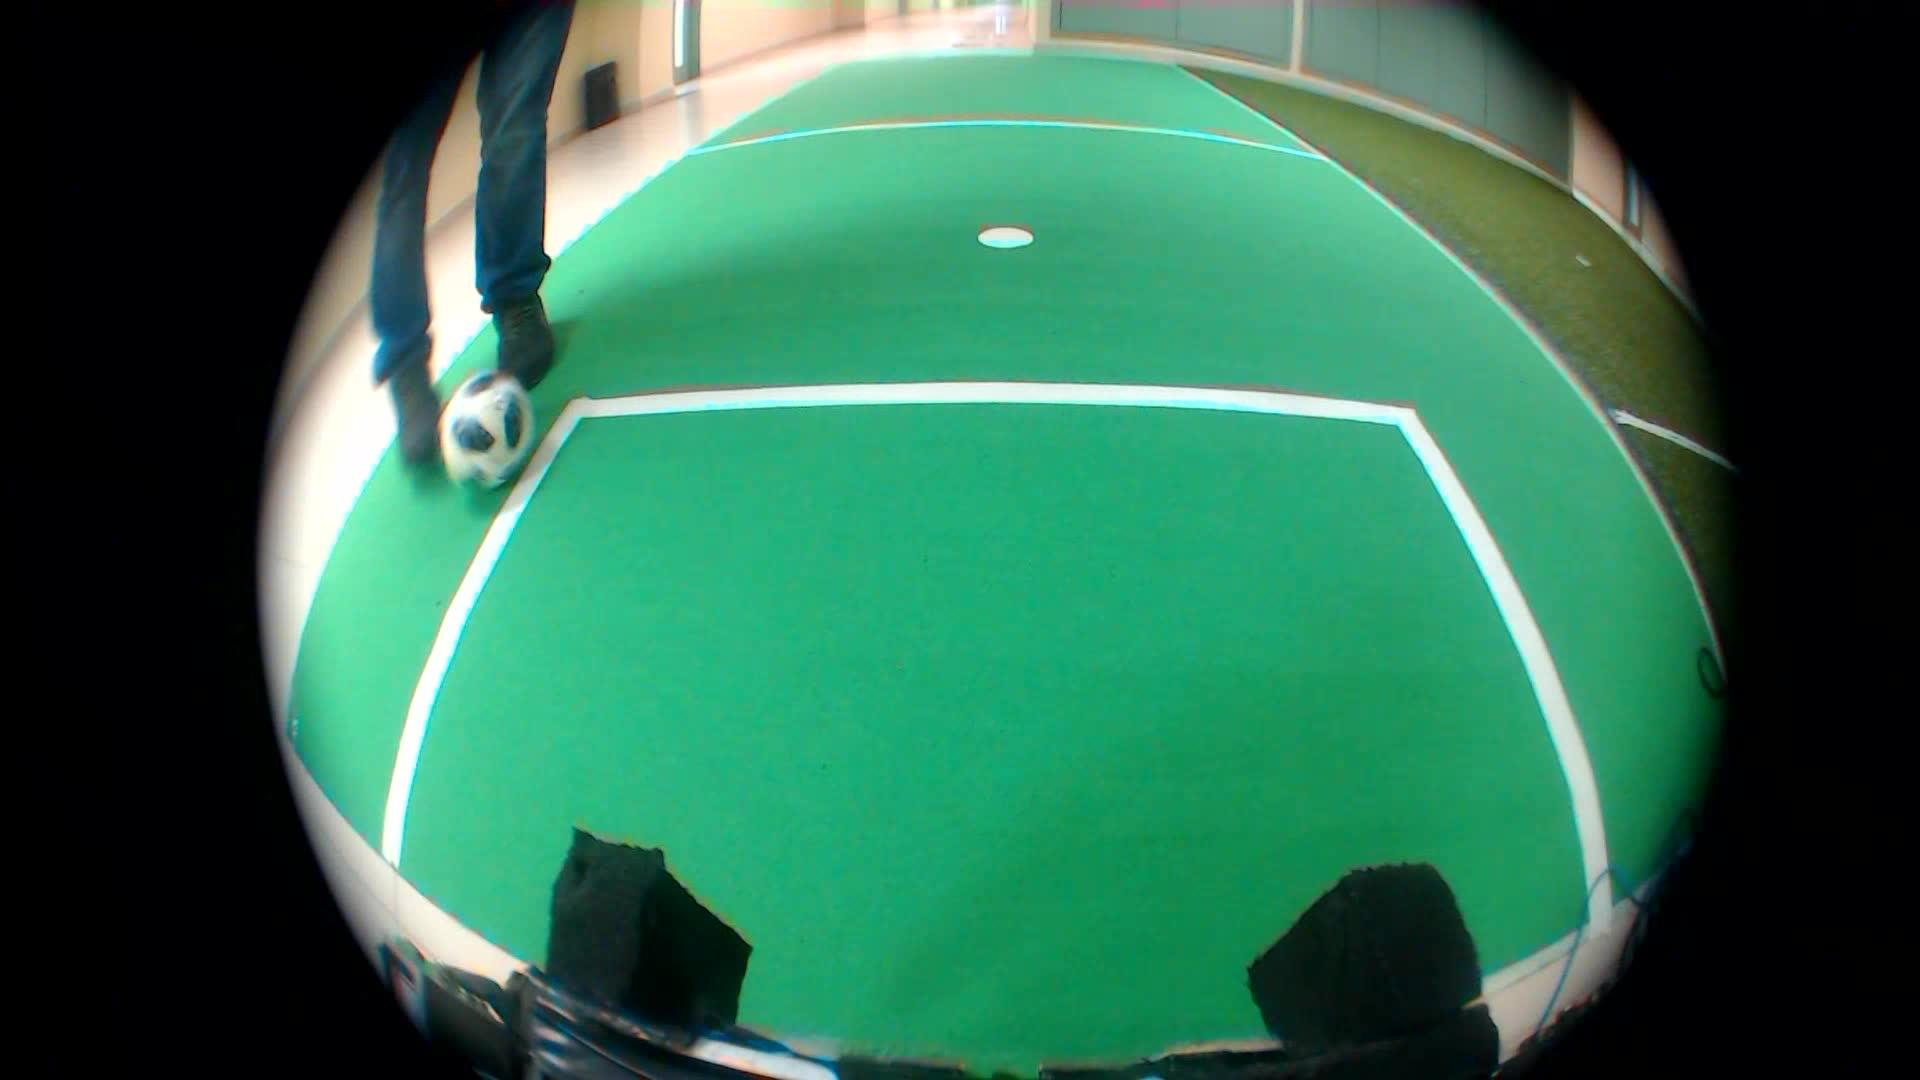ball: (421, 364, 549, 491)
